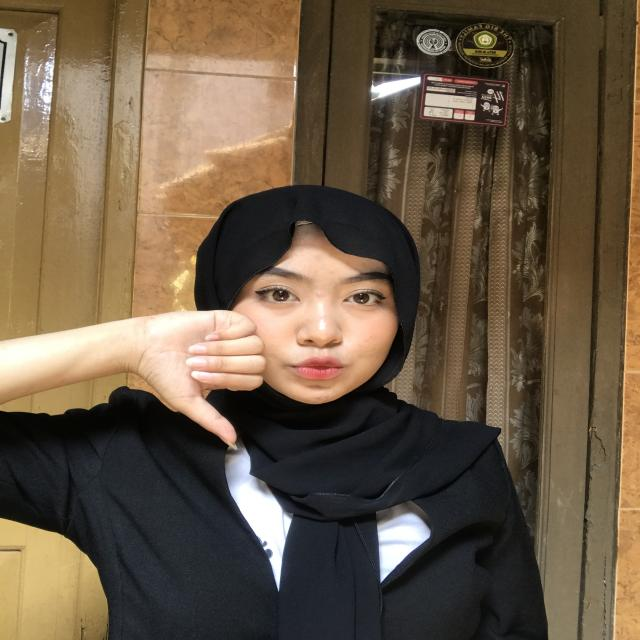sedih: (91, 268, 273, 446)
